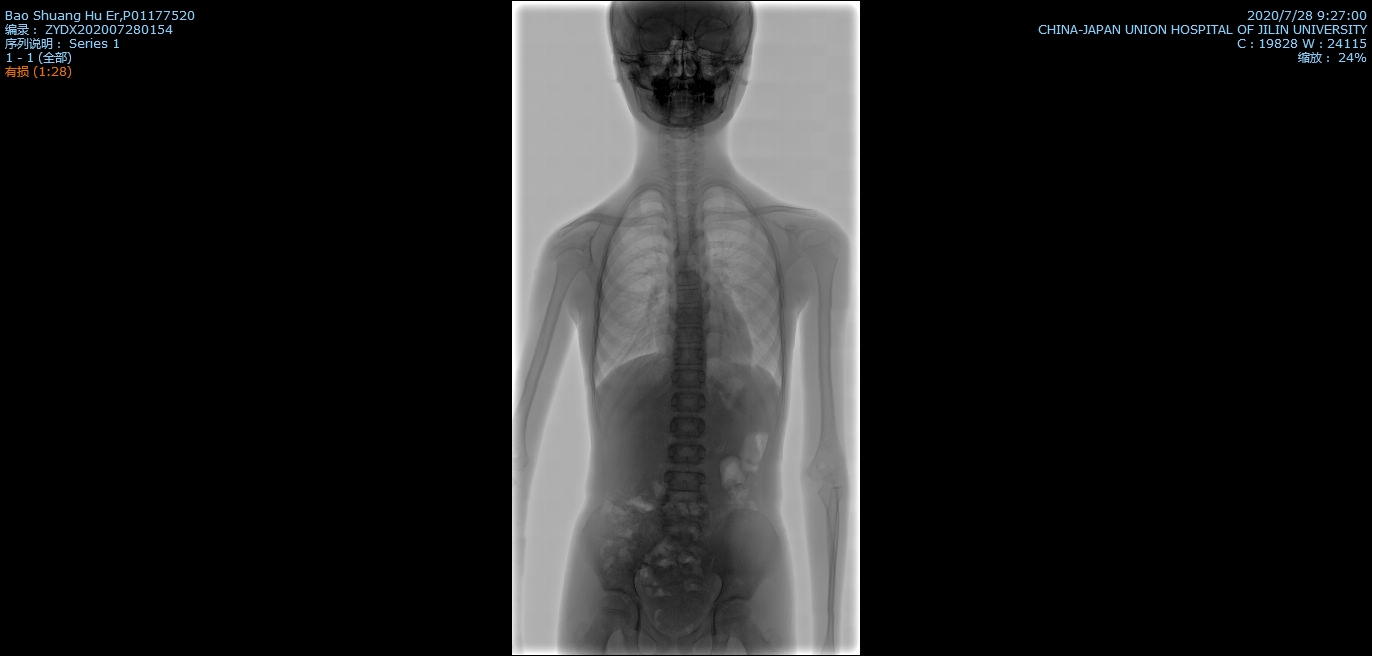Bone: (661, 501, 706, 524), (666, 471, 703, 493), (668, 443, 704, 464), (669, 416, 704, 437), (671, 393, 705, 412), (671, 368, 705, 387), (673, 348, 706, 365), (673, 327, 706, 344), (675, 308, 705, 322), (675, 289, 703, 303), (675, 269, 698, 283), (674, 250, 698, 262), (673, 232, 695, 244), (673, 216, 695, 228)
